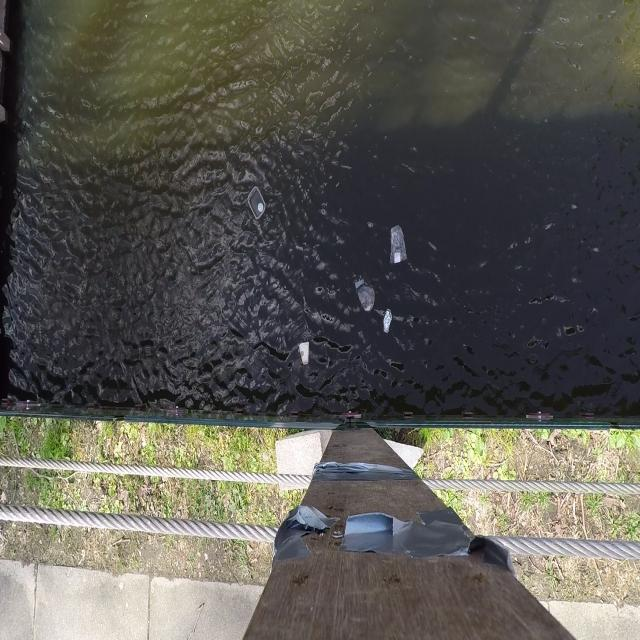Autre plastique: (243, 184, 270, 227)
Non plastique: (295, 336, 315, 370)
Sac plastique: (388, 221, 413, 269), (354, 271, 378, 318)
